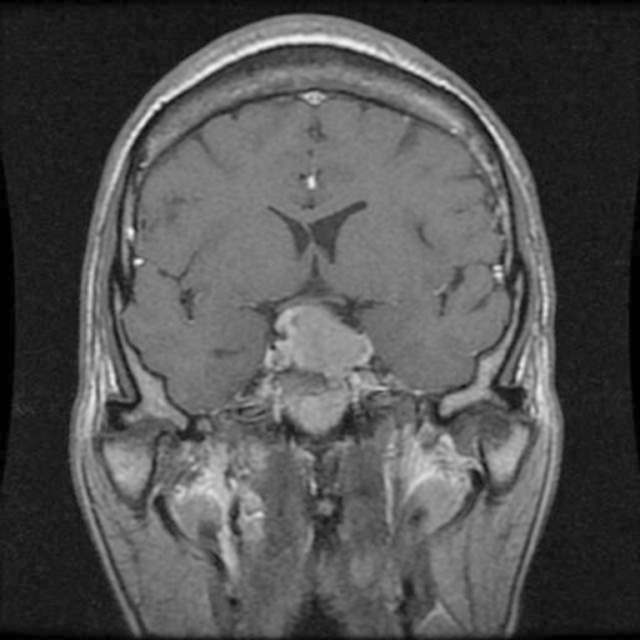no tumor: (265, 298, 365, 424)
